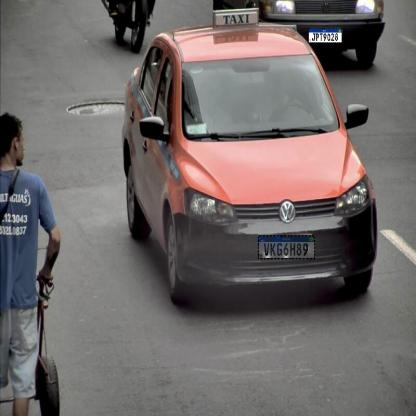PlacaM: (258, 235, 315, 259), (309, 28, 342, 43)
